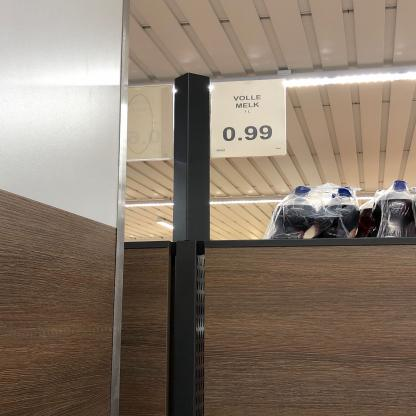prtg: (211, 79, 288, 160)
